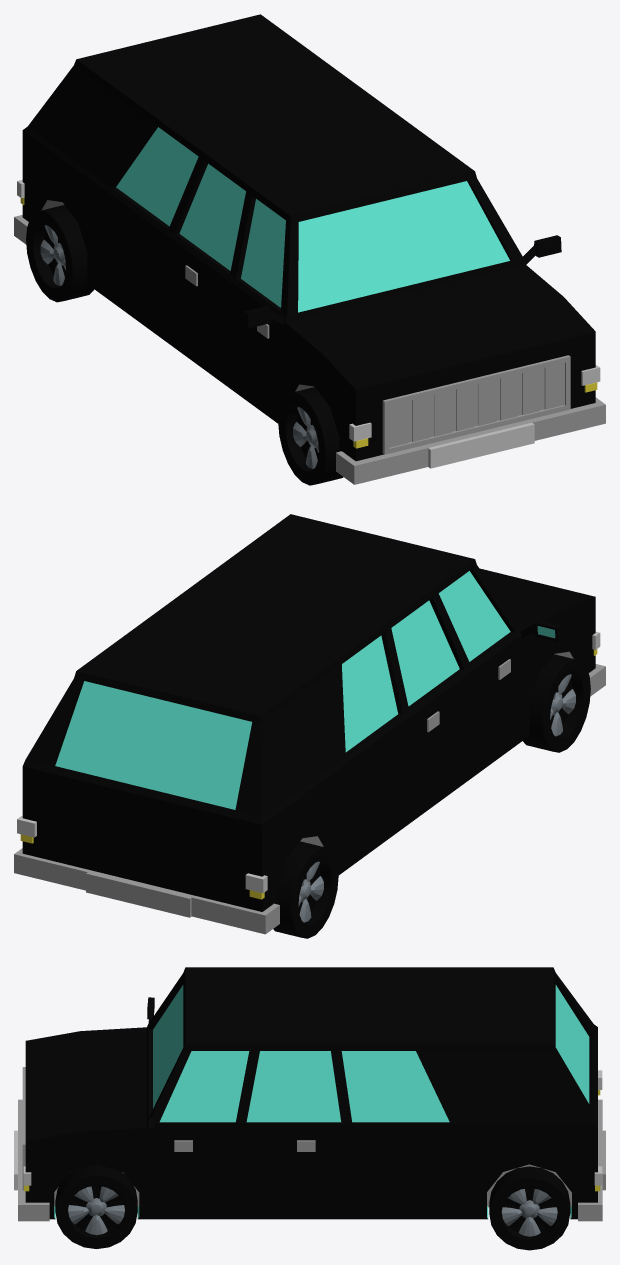
The model's file is car2_H.fbx.
3 views of the same model, one above another, from view 1: azimuth 30°, elevation 25°; view 2: azimuth 150°, elevation 25°; view 3: azimuth 270°, elevation 25° (orthographic). The views are drawn at different scales.
Visible parts, largest first — view 1: Cube.006, Cylinder.012, Cylinder.014; view 2: Cube.006, Cylinder.014, Cylinder.012; view 3: Cube.006, Cylinder.014, Cylinder.012.
Boxes of the visible parts, <box> form: Cube.006: <box>14,14,605,484</box>; Cylinder.012: <box>26,205,94,302</box>; Cylinder.014: <box>278,387,343,485</box>; Cube.006: <box>14,514,605,934</box>; Cylinder.014: <box>523,654,590,752</box>; Cylinder.012: <box>273,841,338,938</box>; Cube.006: <box>14,967,605,1221</box>; Cylinder.014: <box>55,1164,137,1248</box>; Cylinder.012: <box>489,1166,570,1250</box>.
Bounding box in the file's own units: 1.99 × 3.8 × 1.34.
